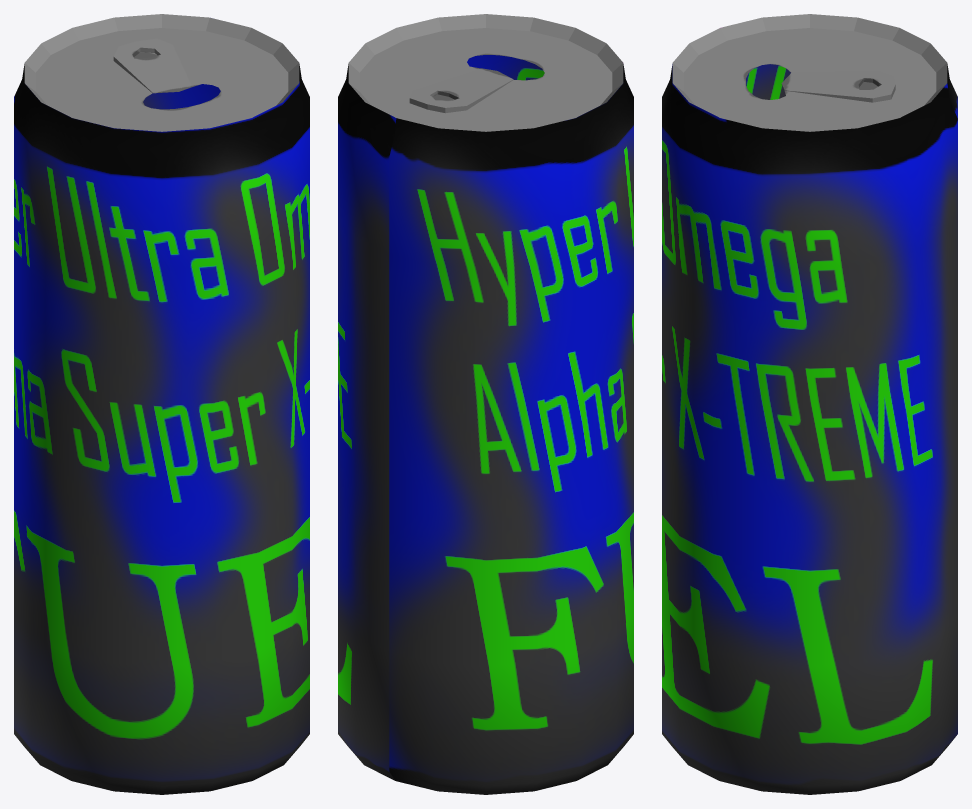
The model's file is Energy Drink.fbx.
3 views of the same model, side by side, from view 1: azimuth 30°, elevation 25°; view 2: azimuth 150°, elevation 25°; view 3: azimuth 270°, elevation 25° (orthographic).
Visible parts, largest first — view 1: Energy Drink; view 2: Energy Drink; view 3: Energy Drink.
Part boxes in pixels (bbox=[...]): Energy Drink: bbox=[14, 14, 309, 794]; Energy Drink: bbox=[338, 14, 633, 794]; Energy Drink: bbox=[662, 14, 957, 794].
Size of the model in its own units: 9.95 by 24.2 by 9.8.
